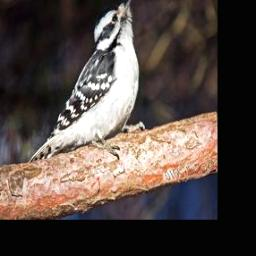Woodpecker: (30, 0, 149, 162)
